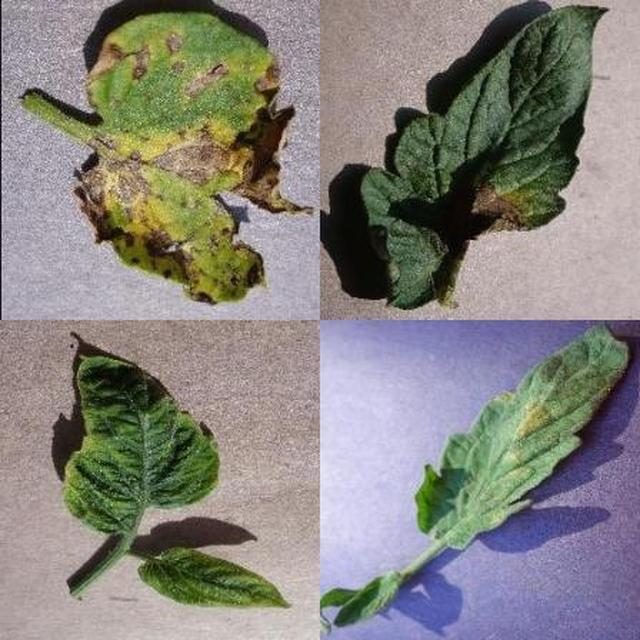Septoria Leaf: (202, 90, 640, 640)
